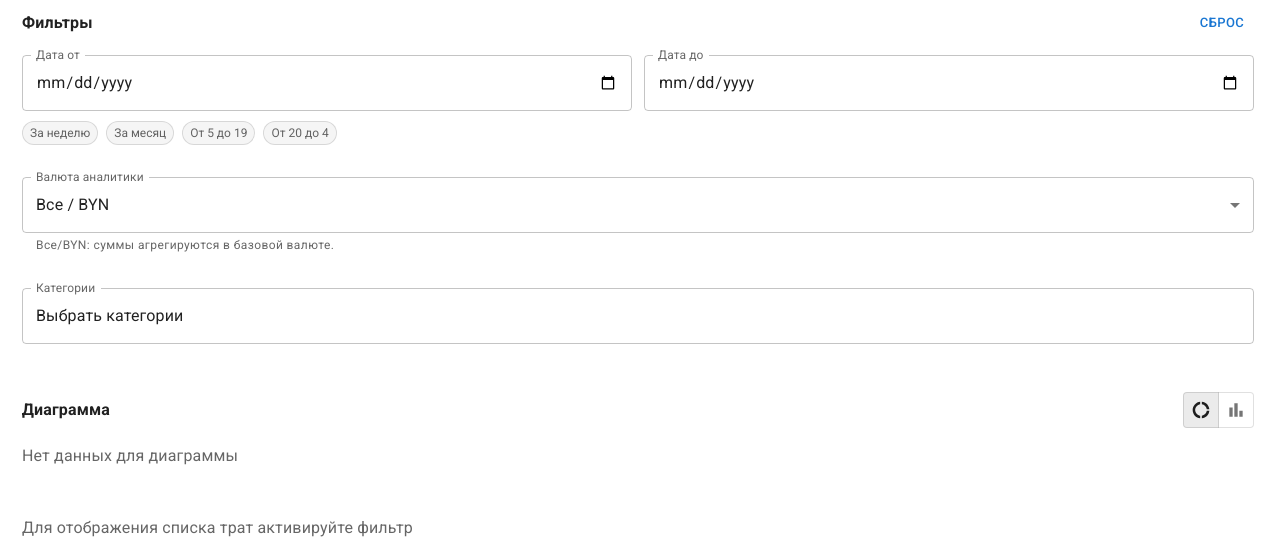
Test: AnalyticsScreen currency filter › keeps backend currency order and shows currency icon in filter menu
This screenshot has width=1277, height=554.
Click the dropdown named "Валюта аналитики": x=73, y=205 [36,195,109,214]
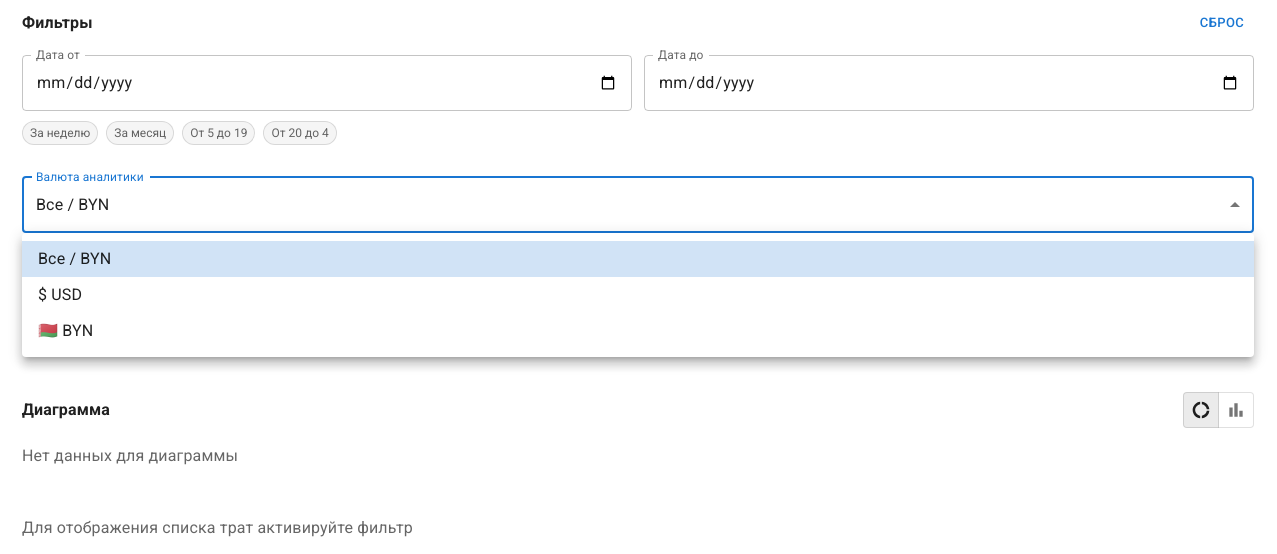
Expected: the options read "Все / BYN", "$ USD", "🇧🇾 BYN", in this order, [22,241,1254,277]; [38,285,82,304]; [38,321,93,340]
